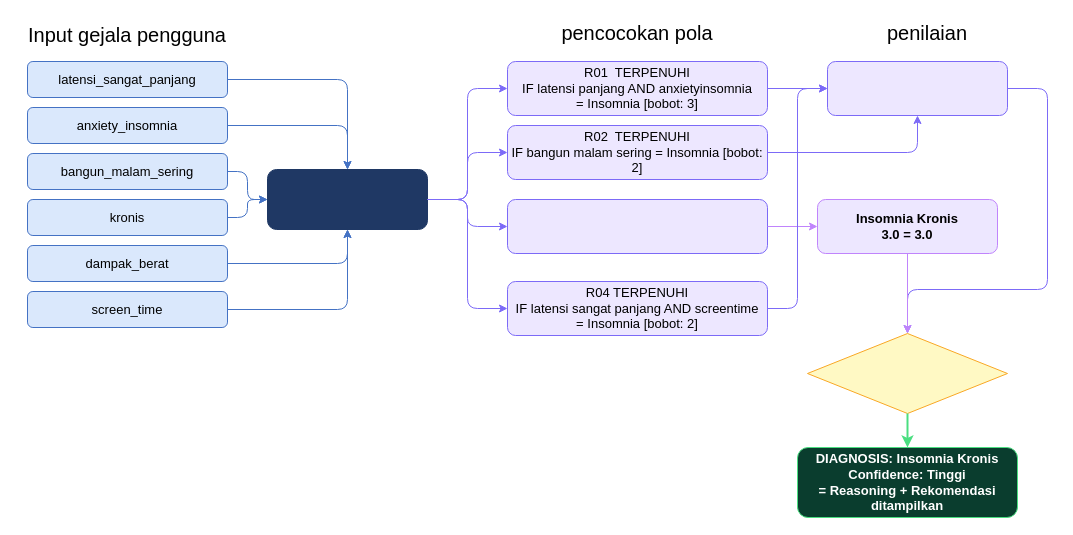
Image size: 1073x535. Some labels were removed from this diagram. Here are the shapes that lost their labels. From the top down, the box of each, then its label:
(826, 60, 1008, 116): Insomnia 3.0 + 2.0 + 2.0 = 7.0
(266, 168, 428, 230): WORKING MEMORY (Fakta Aktif)
(506, 198, 768, 254): R03 TERPENUHI IF kronis AND dampak berat = Insomnia Kronis [bobot: 3]
(806, 332, 1008, 414): MAX(7.0, 3.0, 0, 0, 0, 0) = Insomnia = TERTINGGI
